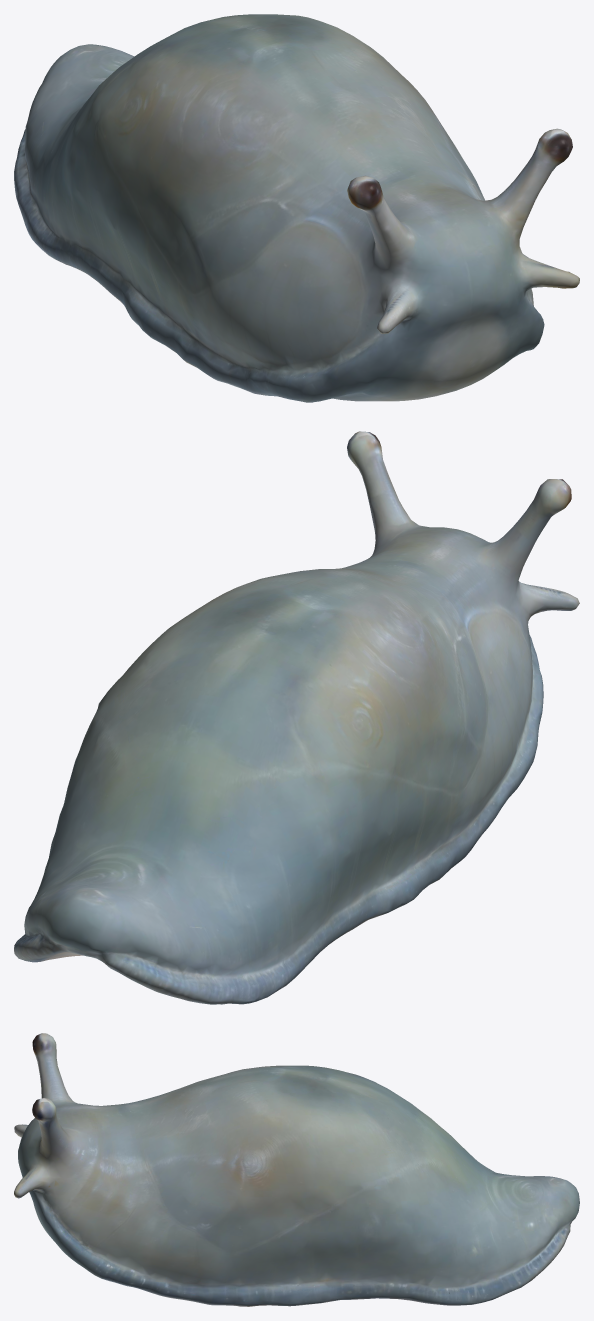
Rendered from Slug.glb.
3 views of the same model, one above another, from view 1: azimuth 30°, elevation 25°; view 2: azimuth 150°, elevation 25°; view 3: azimuth 270°, elevation 25° (orthographic). The views are drawn at different scales.
Parts seen in each view (by area): view 1: Mesh1.0; view 2: Mesh1.0; view 3: Mesh1.0.
Part boxes in pixels (<box>): Mesh1.0: <box>14,14,579,402</box>; Mesh1.0: <box>14,431,579,1004</box>; Mesh1.0: <box>14,1033,579,1306</box>.
Bounding box in the file's own units: 0.7486 × 0.7393 × 1.89.
Materials: 1 (1 with a texture image).
